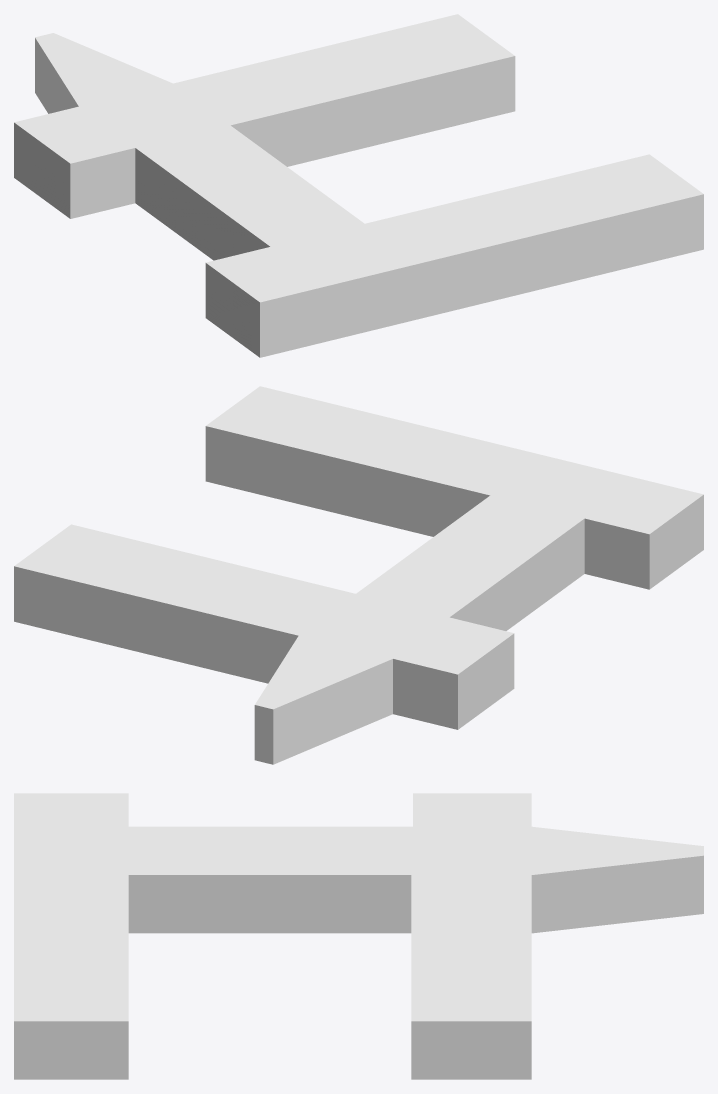
Rendered from fence.obj.
The picture shows the model from 3 angles, top to bottom: view 1: azimuth 30°, elevation 25°; view 2: azimuth 150°, elevation 25°; view 3: azimuth 270°, elevation 25°; orthographic projection. The views are drawn at different scales.
Parts seen in each view (by area): view 1: Plane_Plane.001; view 2: Plane_Plane.001; view 3: Plane_Plane.001.
Part boxes in pixels (<box>): Plane_Plane.001: <box>14,14,703,357</box>; Plane_Plane.001: <box>14,386,703,764</box>; Plane_Plane.001: <box>14,793,703,1079</box>.
Size of the model in its own units: 10.46 by 1.25 by 13.39.
Materials: 1 (1 with a texture image).
